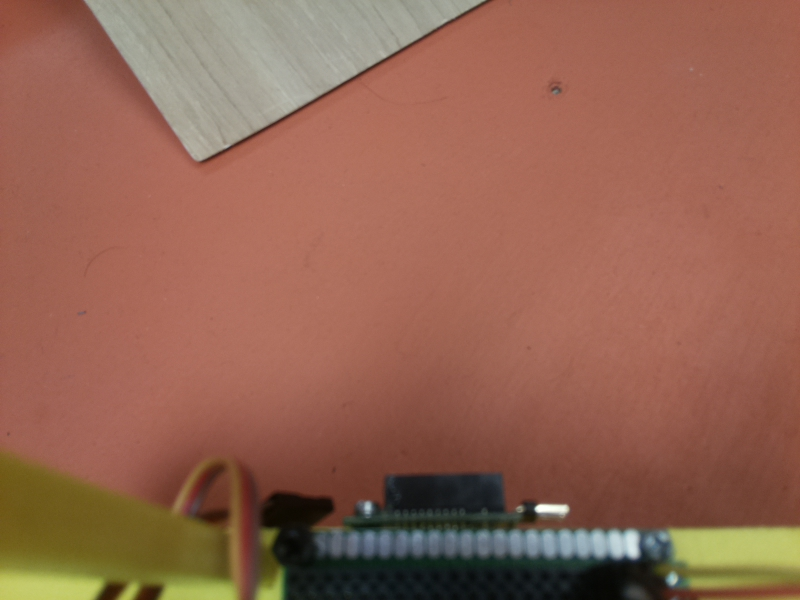slope: (54, 1, 494, 166)
